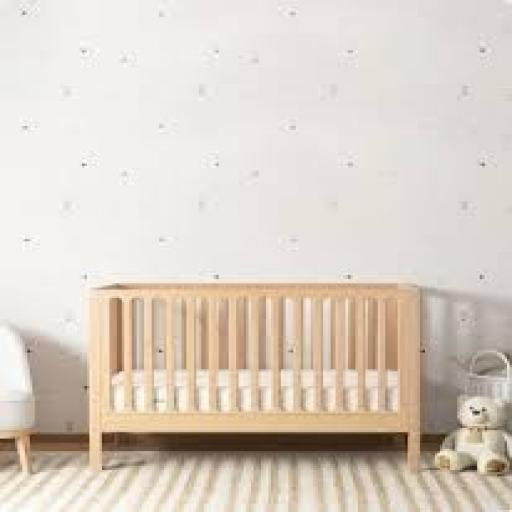crib: (88, 281, 422, 474)
